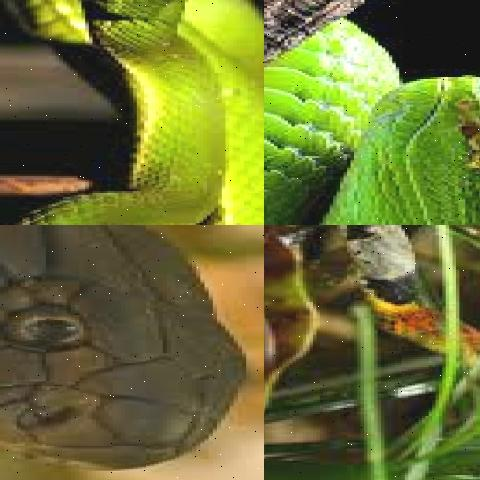snake: (0, 225, 262, 480), (0, 0, 264, 225), (264, 10, 480, 225), (332, 225, 480, 480)
